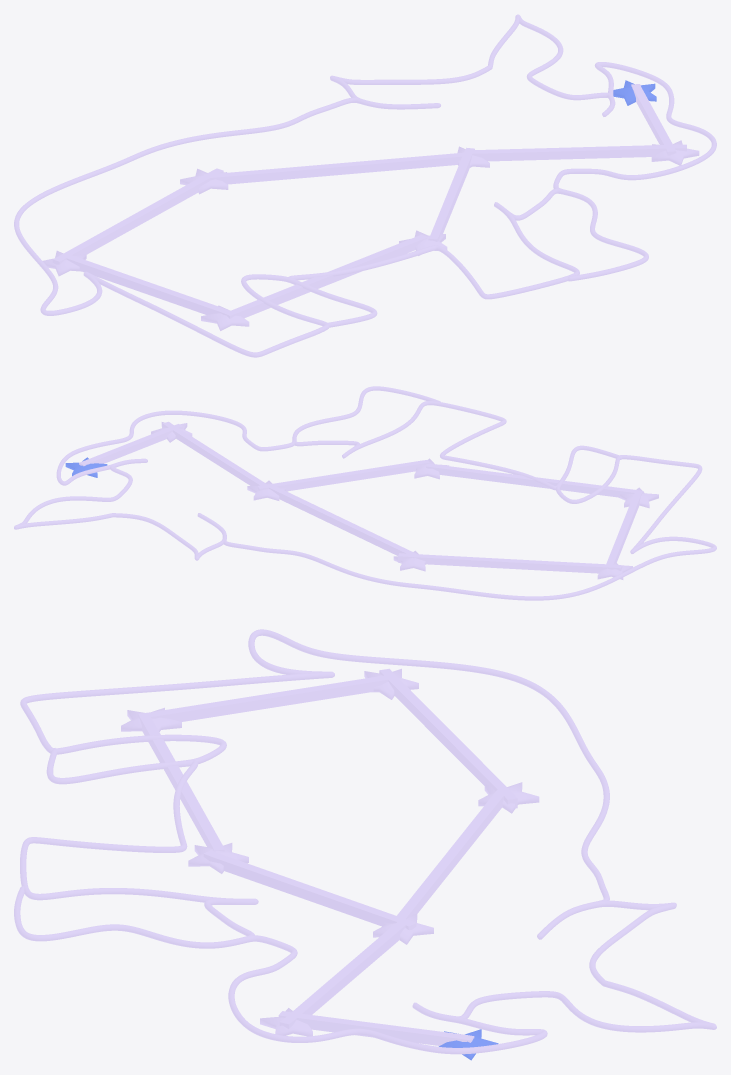
File: rhino.glb
The picture shows the model from 3 angles, top to bottom: view 1: azimuth 30°, elevation 25°; view 2: azimuth 150°, elevation 25°; view 3: azimuth 270°, elevation 25°; orthographic projection. The views are drawn at different scales.
Visible parts, largest first — view 1: NurbsPath.030, Cube.001, Cube.009, Cube.011, Cube.003, Cube.004, Cube.008, Cube.010; view 2: NurbsPath.030, Cube.003, Cube.011, Cube.001, Cube.008, Cube.009, Cube.010, Cube.004; view 3: NurbsPath.030, Cube.004, Cube.008, Cube.003, Cube.001, Cube.009, Cube.010, Cube.011, star18.008.
Boxes of the visible parts, x1,y1,x2,y2 form: NurbsPath.030: (14, 14, 716, 357); Cube.001: (204, 152, 470, 184); Cube.009: (469, 144, 686, 161); Cube.011: (224, 235, 427, 318); Cube.003: (52, 168, 223, 264); Cube.004: (66, 255, 229, 315); Cube.008: (428, 147, 474, 241); Cube.010: (631, 84, 676, 155); NurbsPath.030: (14, 386, 716, 600); Cube.003: (398, 553, 622, 573); Cube.011: (426, 463, 643, 497); Cube.001: (266, 484, 419, 558); Cube.008: (257, 460, 429, 491); Cube.009: (162, 421, 267, 486); Cube.010: (79, 424, 183, 466); Cube.004: (606, 492, 642, 564); NurbsPath.030: (14, 629, 716, 1054); Cube.004: (146, 675, 388, 721); Cube.008: (203, 850, 416, 930); Cube.003: (379, 668, 517, 808); Cube.001: (393, 787, 509, 921); Cube.009: (279, 921, 408, 1028); Cube.010: (278, 1011, 474, 1045); Cube.011: (138, 712, 224, 851); star18.008: (188, 843, 248, 873).
Size of the model in its own units: 19.2 by 0.3757 by 13.54.
